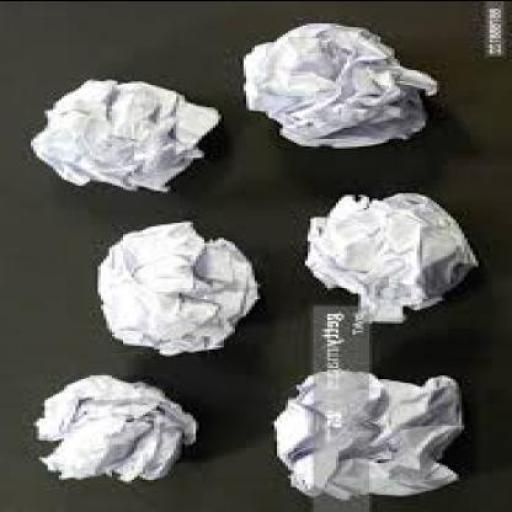paper: (269, 365, 465, 495), (238, 20, 440, 146), (299, 188, 481, 320), (92, 218, 260, 352), (28, 74, 216, 192), (30, 370, 196, 479)
